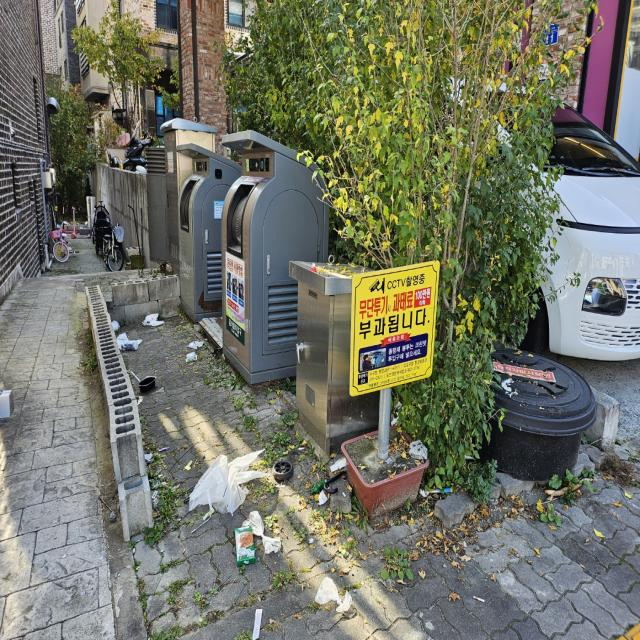CleanNet: (221, 132, 330, 388), (176, 140, 247, 317)
